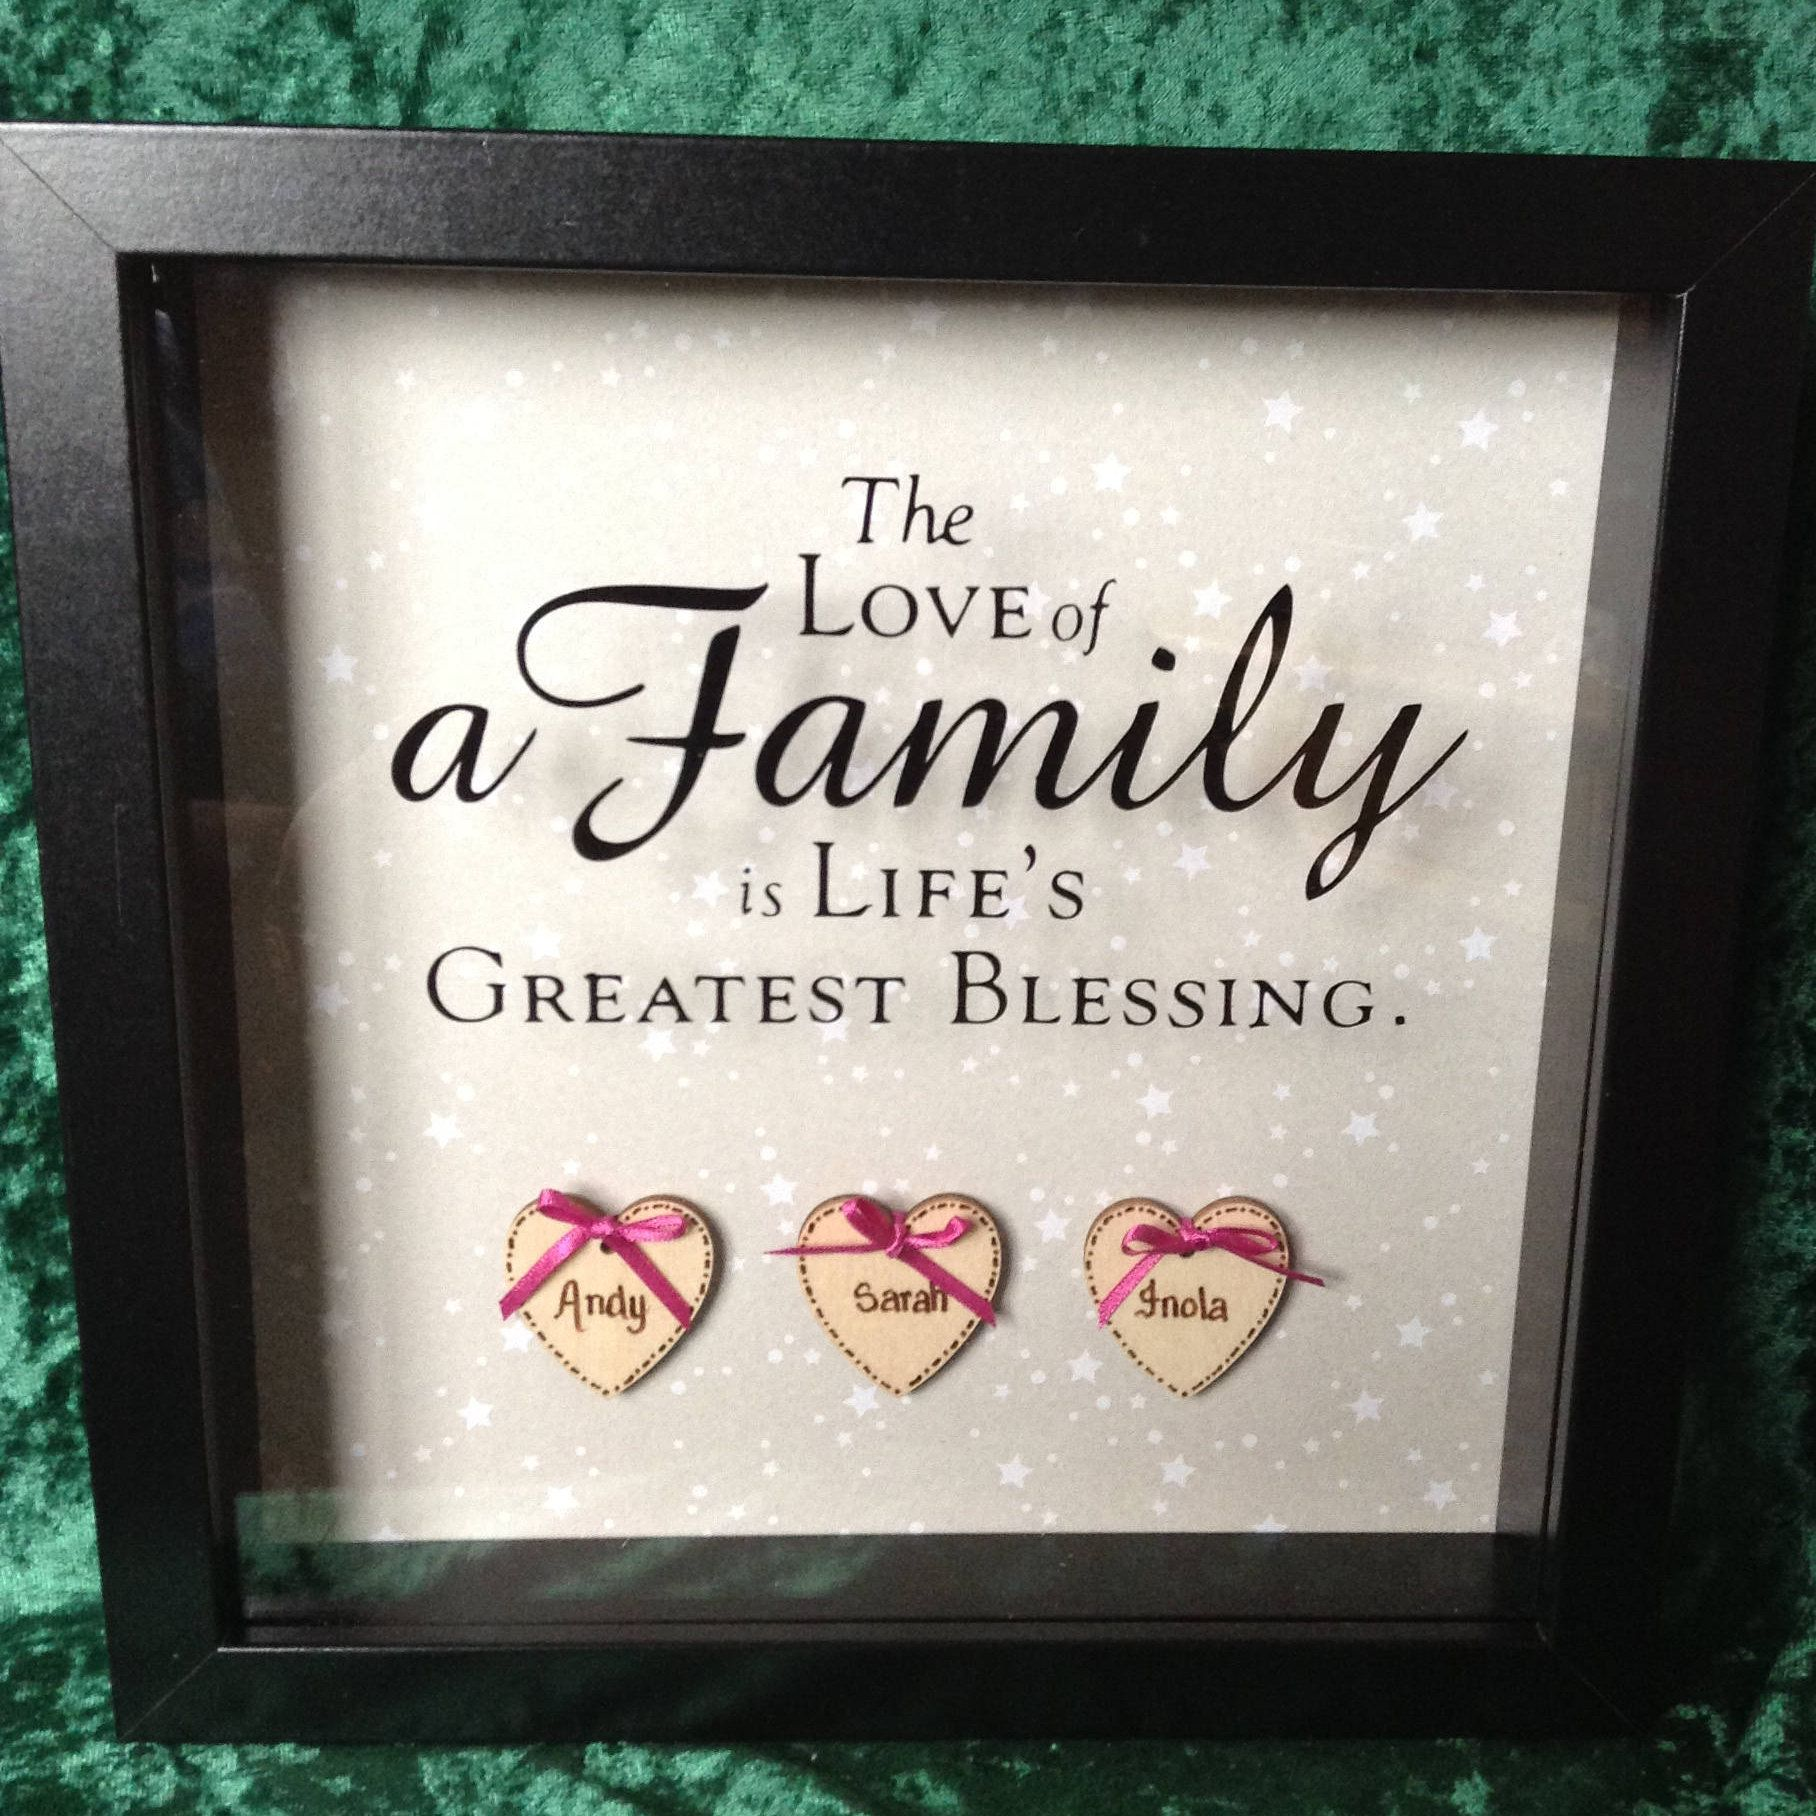foto: (18, 105, 1786, 1789)
